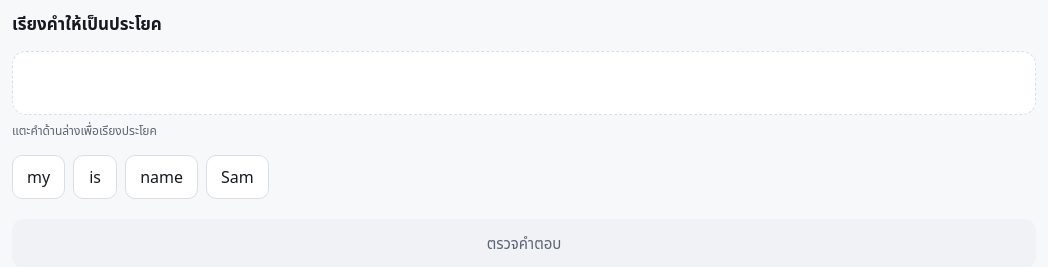
ArrangeWords › tile display (display only: the submitted text and grading are unchanged) › capitalises only the first tile of the answer row; the learner's text keeps the original words
The width and height of the screenshot is (1048, 267).
Later steps or results of the test are not shown.
What coordinates should you click on to do the following:
click the button "is"
I would click on:
 (95, 177)
Its box is [73,155,117,199].
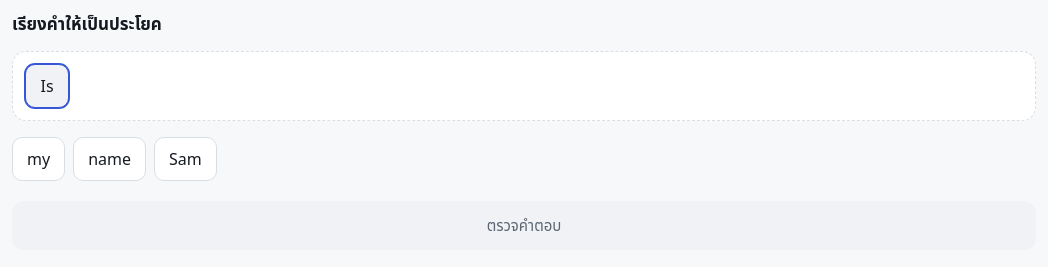
What coordinates should you click on to do the following:
click the button "Sam"
I would click on:
 (185, 159)
Its box is [154,137,217,181].
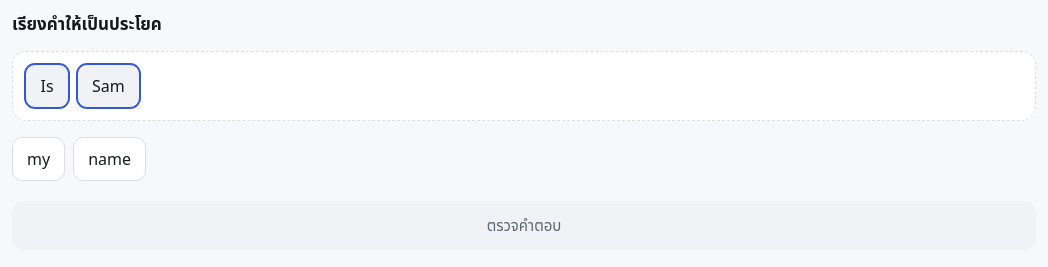
What coordinates should you click on to do the following:
click the button "my"
I would click on:
 (39, 159)
Its box is [12,137,65,181].
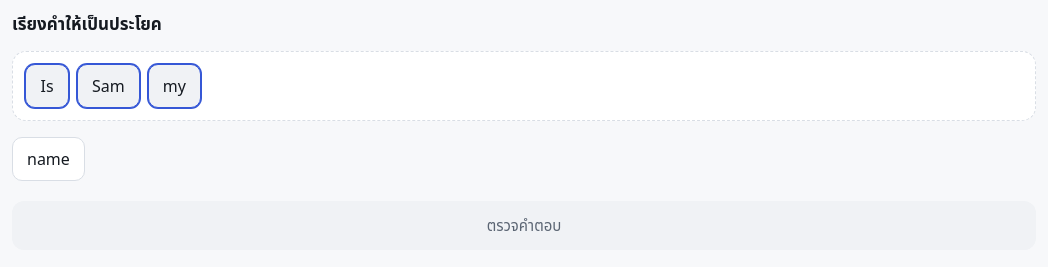
What coordinates should you click on to do the following:
click the button "name"
I would click on:
 (48, 159)
Its box is [12,137,85,181].
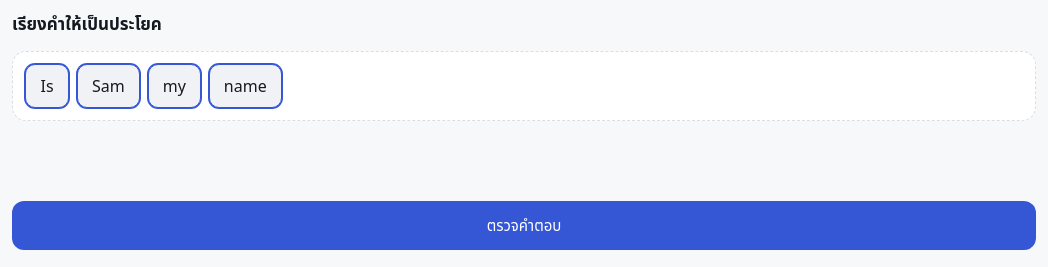
Expected: the buttons read "Is", "Sam", "my", "name", in this order, [25,64,69,108]; [77,64,140,108]; [148,64,201,108]; [209,64,282,108]
